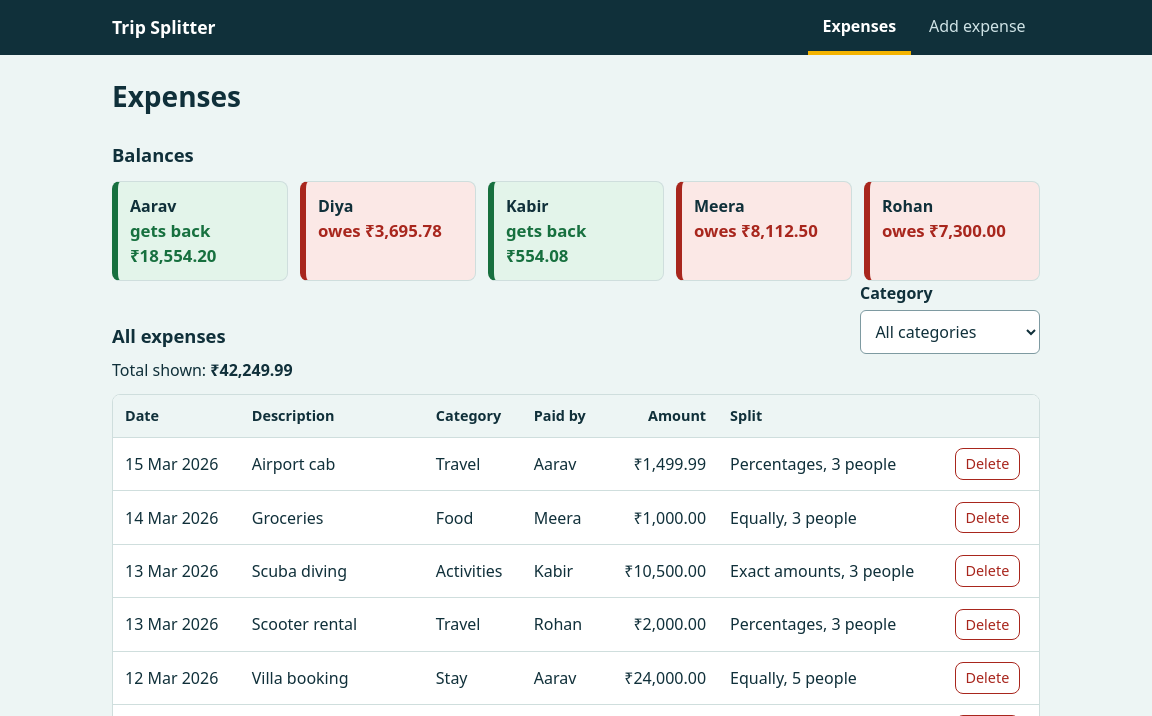
it: Expenses page › shows an empty state when a category has no expenses
Select "Other" in the dropdown labelled "Category". click: (950, 332)
box: [860,310,1040,354]
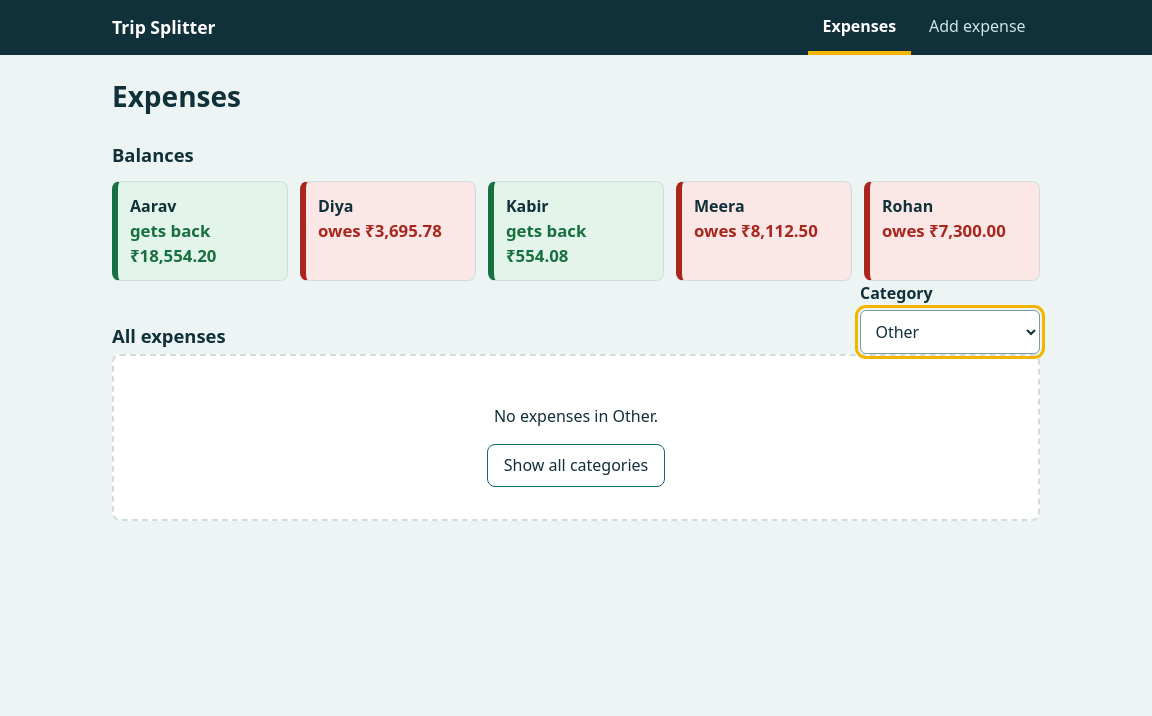
Result: the text "No expenses in Other." is shown at [494,405,658,427]
